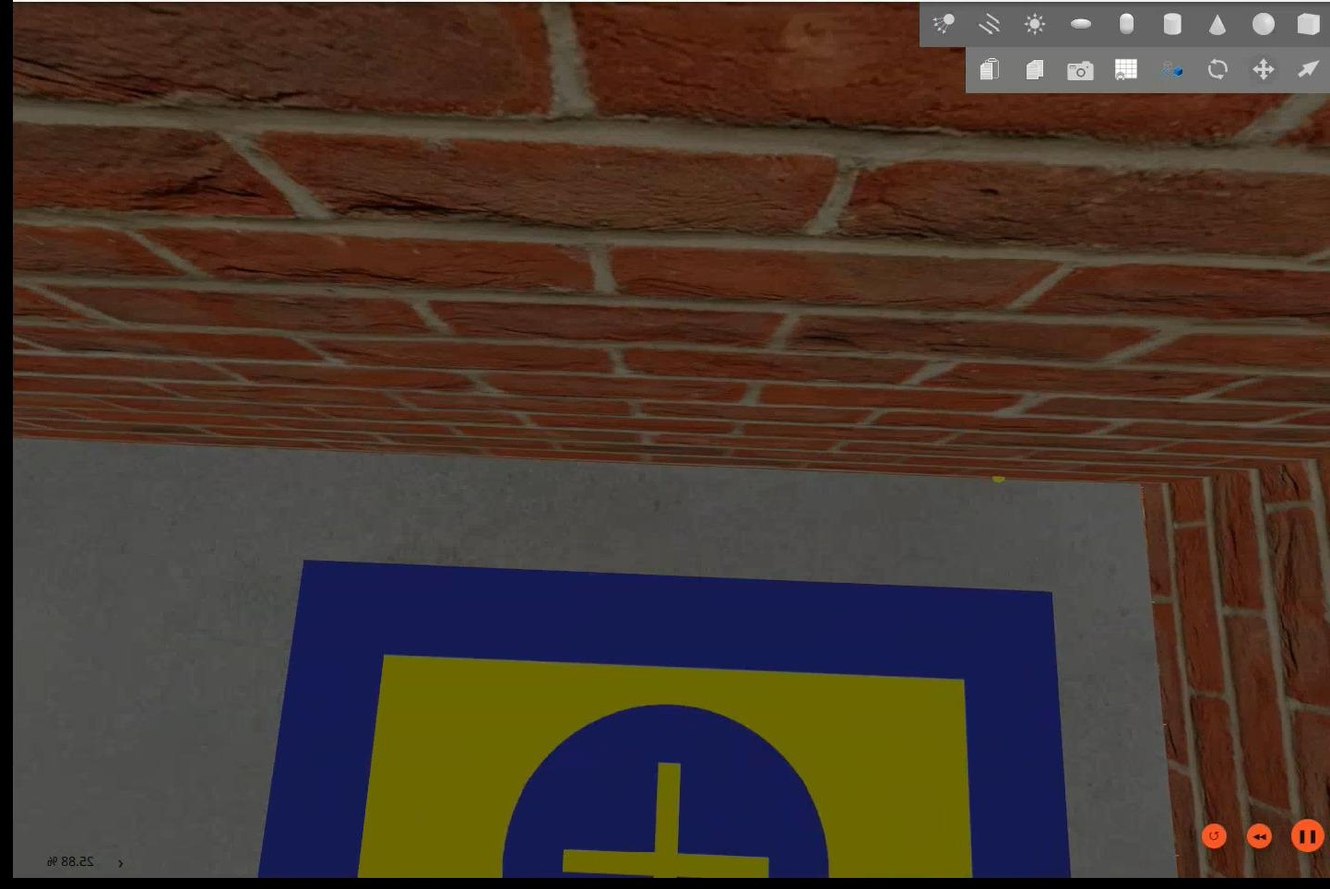large_base: (258, 561, 1068, 883)
